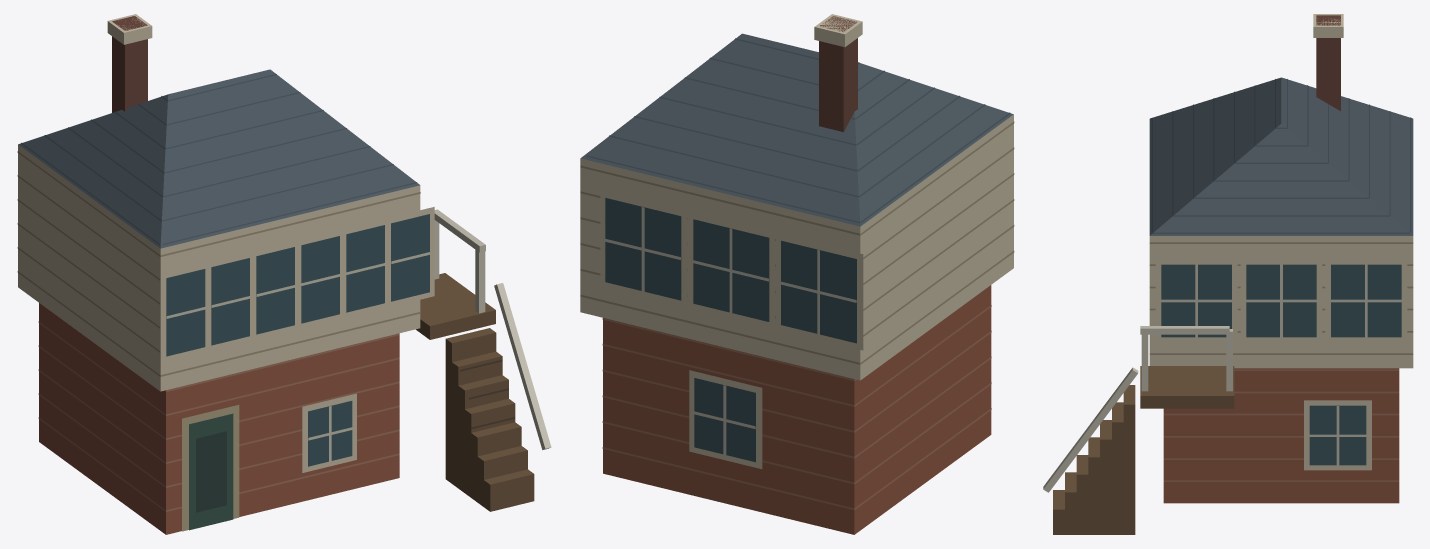
The model's file is 03-railway-signal-box.glb.
3 views of the same model, side by side, from view 1: azimuth 30°, elevation 25°; view 2: azimuth 150°, elevation 25°; view 3: azimuth 270°, elevation 25° (orthographic). The views are drawn at different scales.
Parts seen in each view (by area): view 1: Railway signal box; view 2: Railway signal box; view 3: Railway signal box.
Boxes of the visible parts, x1=… form: Railway signal box: x1=17, y1=14, x2=551, y2=534; Railway signal box: x1=580, y1=14, x2=1014, y2=534; Railway signal box: x1=1043, y1=14, x2=1413, y2=534.
Size of the model in its own units: 0.764 by 0.94 by 0.7908.
